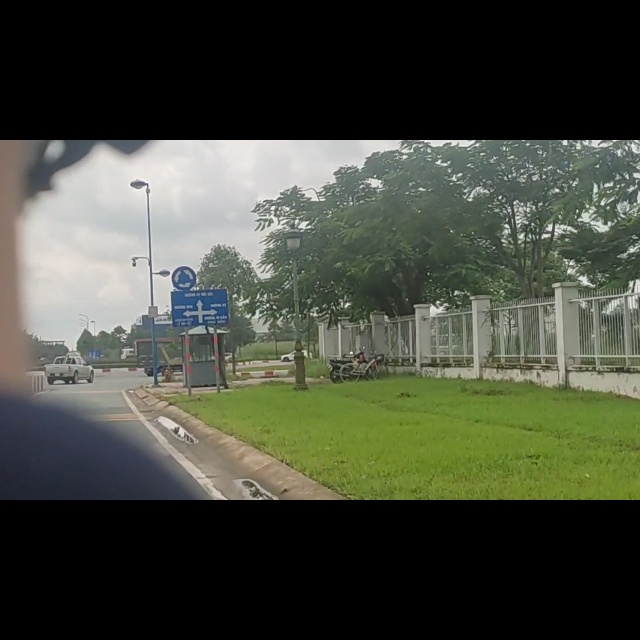bien_hieu_lenh: (169, 223, 198, 265)
